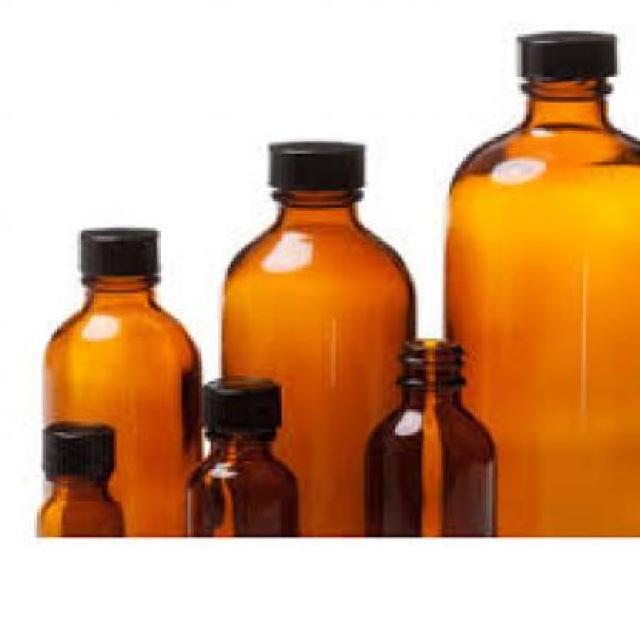kaca: (445, 77, 637, 532), (222, 188, 412, 532), (43, 274, 199, 535), (365, 338, 492, 532), (184, 430, 296, 536), (34, 476, 120, 536)
